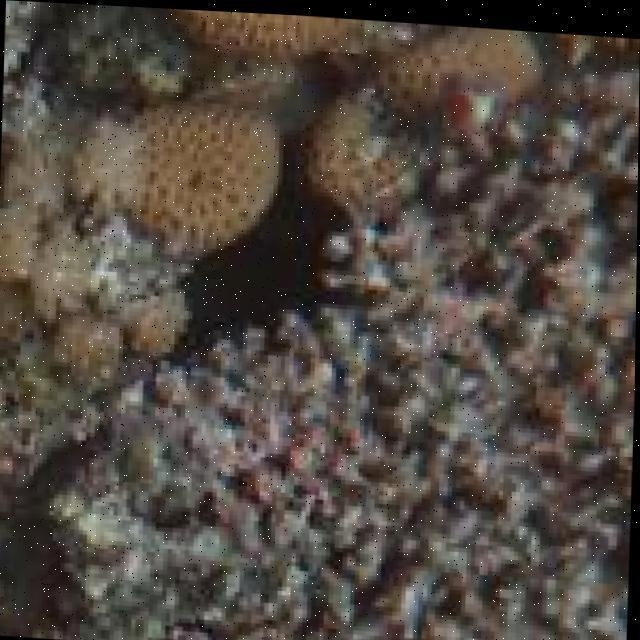Healthy Coral: (124, 4, 548, 259)
